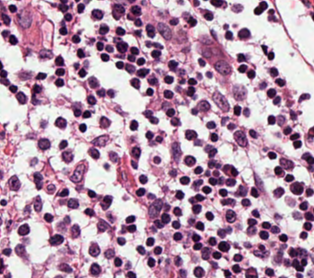nucleus: (213, 92, 228, 111), (148, 199, 162, 216), (70, 164, 83, 181), (157, 23, 170, 39), (214, 61, 230, 74), (234, 131, 247, 146), (91, 135, 108, 146), (113, 4, 124, 19), (9, 175, 20, 190), (233, 86, 245, 98), (171, 142, 180, 158), (101, 195, 111, 209), (49, 234, 63, 244), (34, 172, 42, 188), (116, 41, 127, 52), (55, 117, 66, 128), (38, 138, 49, 149), (18, 224, 29, 235), (33, 196, 41, 211), (97, 219, 107, 231), (39, 49, 52, 58), (238, 28, 249, 38), (88, 77, 98, 88), (16, 92, 26, 103), (88, 148, 99, 158), (62, 151, 72, 162), (184, 155, 195, 165), (226, 210, 235, 222), (146, 24, 154, 37), (71, 224, 79, 237), (92, 9, 102, 19), (199, 100, 209, 110), (100, 117, 110, 127), (185, 130, 196, 139), (131, 147, 140, 158), (274, 187, 283, 197), (68, 199, 78, 208), (137, 68, 148, 76), (99, 25, 108, 34), (192, 204, 201, 213), (2, 14, 10, 24), (131, 78, 139, 88), (109, 152, 117, 162), (238, 185, 246, 195), (221, 198, 234, 204), (259, 1, 267, 10), (131, 6, 140, 14), (204, 12, 213, 20), (188, 17, 196, 26), (9, 35, 17, 44), (55, 56, 63, 65), (168, 60, 177, 68), (125, 64, 134, 72), (87, 95, 95, 104), (208, 148, 216, 157), (180, 176, 189, 184), (161, 213, 169, 222), (259, 231, 268, 239), (36, 72, 46, 79), (234, 105, 241, 115), (130, 120, 137, 130), (251, 187, 258, 197), (211, 0, 222, 6), (254, 6, 262, 14), (116, 27, 124, 35), (97, 89, 105, 97), (267, 89, 275, 97), (164, 90, 172, 98), (166, 108, 174, 116), (276, 116, 284, 124), (59, 140, 67, 148), (274, 166, 282, 174), (139, 175, 147, 183), (173, 207, 181, 215), (44, 213, 52, 221), (247, 226, 255, 234), (217, 229, 225, 237), (173, 232, 181, 240), (151, 50, 160, 57), (55, 68, 64, 75), (164, 76, 173, 83), (148, 77, 157, 84), (143, 110, 152, 117), (268, 115, 275, 124), (149, 116, 158, 123), (206, 121, 215, 128), (226, 179, 235, 186), (47, 184, 54, 193), (202, 186, 211, 193), (59, 189, 68, 196), (241, 199, 250, 206), (127, 225, 136, 232), (232, 5, 242, 11), (59, 4, 67, 11), (77, 4, 84, 12), (59, 26, 66, 34), (225, 31, 232, 39), (198, 58, 205, 66), (238, 65, 246, 72), (270, 68, 277, 76), (247, 70, 254, 78), (188, 78, 196, 85), (55, 79, 63, 86), (33, 85, 41, 92), (187, 87, 194, 95), (107, 89, 114, 97), (273, 96, 280, 104), (171, 118, 179, 125), (145, 131, 152, 139), (210, 133, 217, 141), (223, 165, 231, 172), (194, 166, 202, 173), (209, 177, 217, 184), (136, 188, 144, 195), (219, 189, 227, 196), (176, 190, 183, 198), (85, 208, 93, 215), (206, 212, 213, 220), (154, 220, 162, 227), (172, 221, 180, 228), (271, 226, 279, 233), (117, 237, 125, 244), (146, 237, 153, 245), (208, 237, 215, 245), (275, 79, 284, 85), (195, 194, 204, 200), (152, 43, 162, 48), (9, 5, 16, 12), (64, 13, 71, 20), (72, 35, 79, 42), (131, 47, 138, 54), (101, 54, 108, 61), (237, 54, 244, 61), (116, 61, 123, 68), (79, 69, 86, 76), (9, 85, 16, 92), (146, 88, 153, 95), (79, 124, 86, 131), (249, 130, 256, 137), (208, 160, 215, 167), (169, 169, 176, 176), (88, 190, 95, 197), (196, 222, 203, 229), (192, 234, 199, 241), (97, 42, 103, 50), (77, 49, 83, 57), (74, 108, 80, 116), (243, 108, 249, 116), (268, 152, 276, 158), (131, 160, 137, 168), (231, 167, 237, 175), (194, 180, 202, 186), (126, 216, 134, 222), (248, 219, 256, 225), (262, 222, 270, 228), (32, 95, 37, 104), (170, 18, 177, 24), (135, 19, 141, 26), (127, 55, 134, 61), (137, 58, 144, 64), (1, 78, 8, 84), (83, 111, 90, 117), (221, 117, 227, 124), (227, 123, 234, 129), (153, 157, 160, 163), (252, 210, 258, 217), (2, 30, 8, 36), (106, 45, 112, 51), (191, 108, 197, 114), (205, 145, 211, 151), (213, 170, 219, 176), (268, 52, 273, 59), (1, 70, 6, 77), (194, 140, 201, 145), (189, 197, 196, 202), (64, 216, 69, 223), (262, 45, 266, 53), (156, 136, 162, 141), (269, 16, 276, 20), (127, 14, 132, 19), (135, 30, 140, 35), (206, 72, 211, 77), (1, 200, 6, 205), (148, 194, 154, 198), (146, 41, 151, 45), (74, 63, 78, 68), (218, 178, 222, 183), (165, 204, 168, 210), (269, 9, 273, 13), (104, 164, 108, 168), (226, 228, 230, 232), (194, 1, 199, 4)
